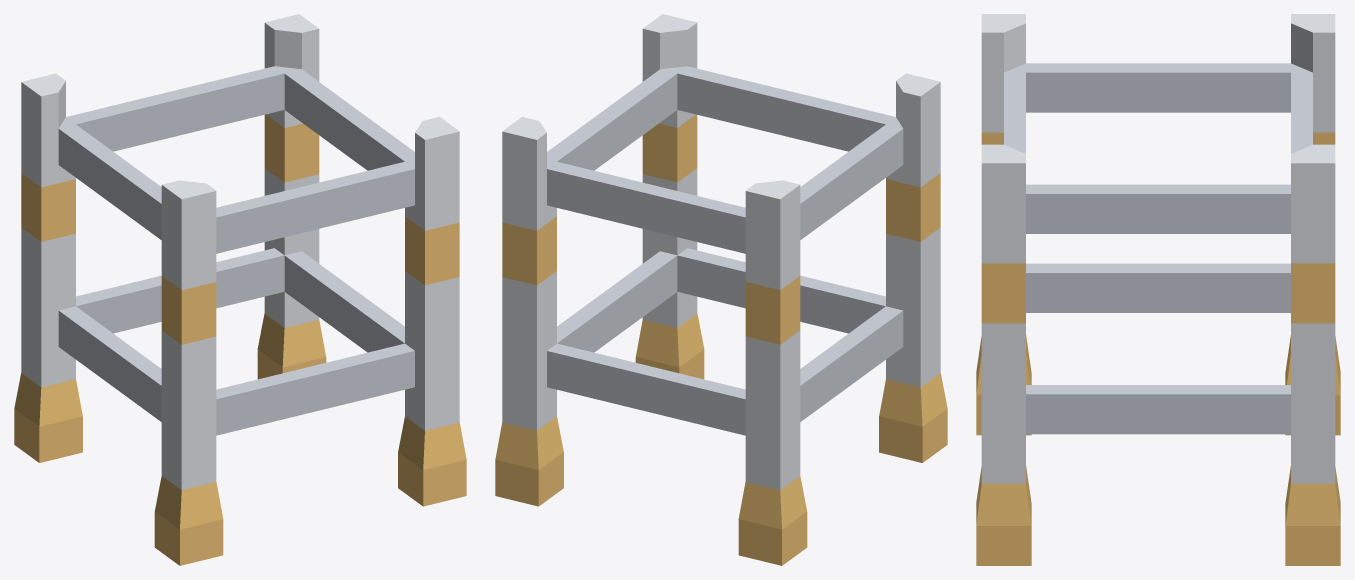
The model's file is supports_high.glb.
The picture shows the model from 3 angles, left to right: view 1: azimuth 30°, elevation 25°; view 2: azimuth 150°, elevation 25°; view 3: azimuth 270°, elevation 25°; orthographic projection. The views are drawn at different scales.
Visible parts, largest first — view 1: supports_high; view 2: supports_high; view 3: supports_high.
Part boxes in pixels (x1,y1,x2,y2): supports_high: [14, 14, 466, 565]; supports_high: [495, 14, 947, 565]; supports_high: [976, 14, 1340, 565].
Bounding box in the file's own units: 0.825 × 1 × 0.825.
Materials: 1 (1 with a texture image).
